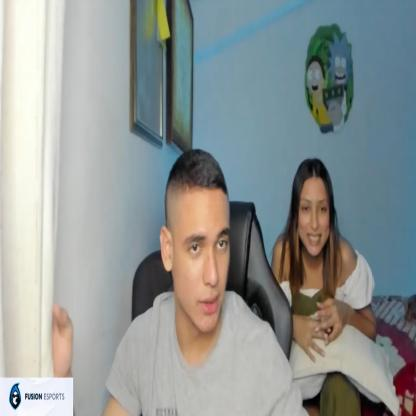streamer: (50, 147, 308, 416), (272, 158, 378, 416)
